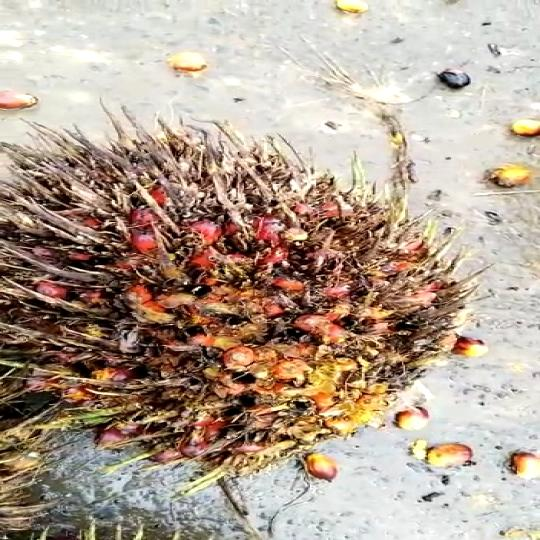terlalu masak: (0, 105, 486, 483)
